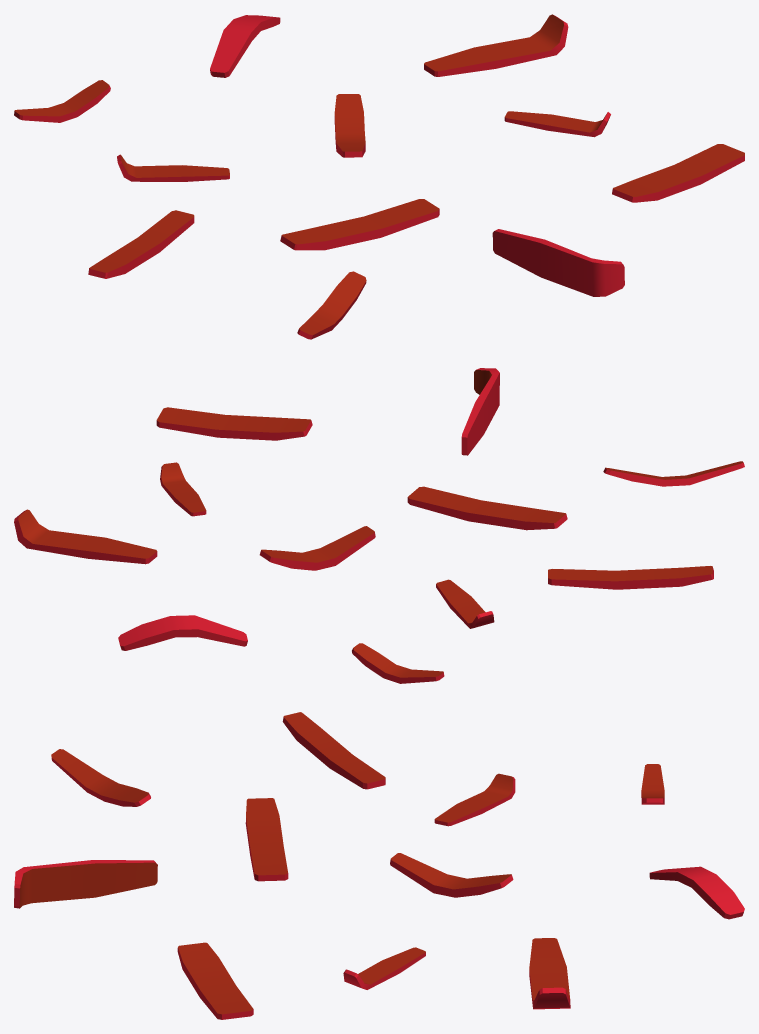
File: mesh_PaprikaSlices.fbx
3 views of the same model, one above another, from view 1: azimuth 30°, elevation 25°; view 2: azimuth 150°, elevation 25°; view 3: azimuth 270°, elevation 25° (orthographic). The views are drawn at different scales.
Visible parts, largest first — view 1: mesh_paprikaSlice; view 2: mesh_paprikaSlice; view 3: mesh_paprikaSlice.
Part boxes in pixels (bbox=[...]): mesh_paprikaSlice: bbox=[14, 14, 744, 339]; mesh_paprikaSlice: bbox=[14, 368, 744, 683]; mesh_paprikaSlice: bbox=[14, 712, 744, 1019].
Bounding box in the file's own units: 0.1932 × 0.011 × 0.2006.
